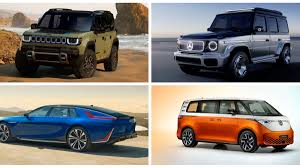car: (173, 9, 294, 79), (14, 8, 122, 76), (175, 97, 294, 155), (1, 104, 138, 148)
